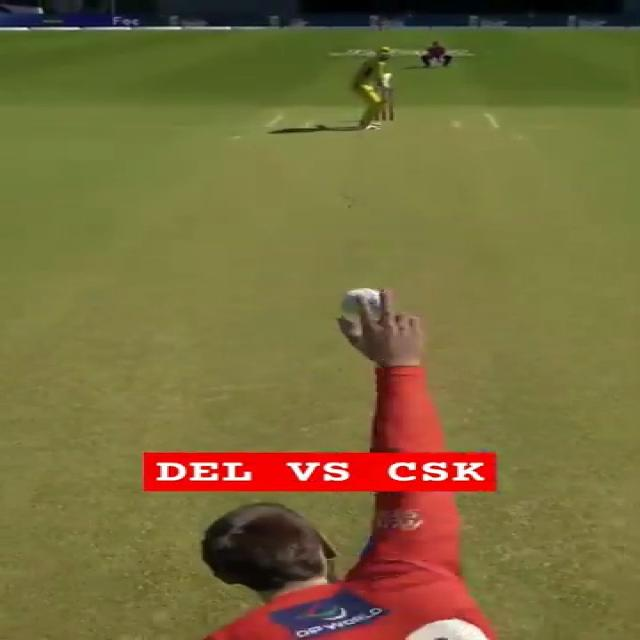ball: (340, 287, 382, 317)
